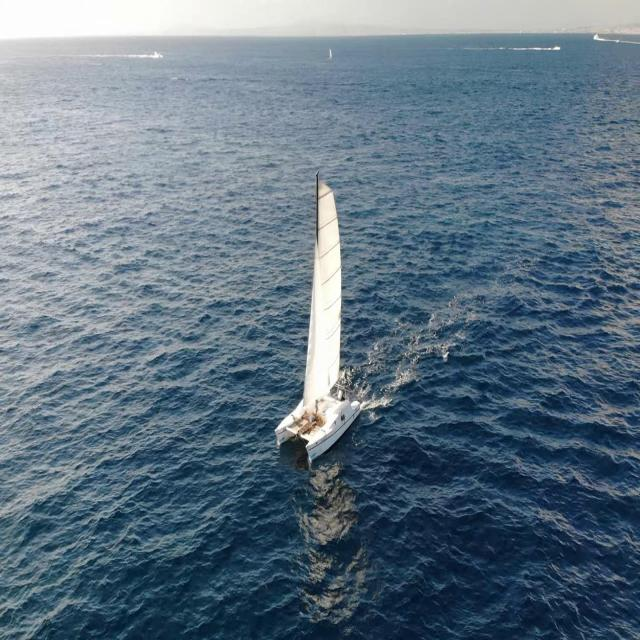sailboat: (270, 171, 362, 469)
